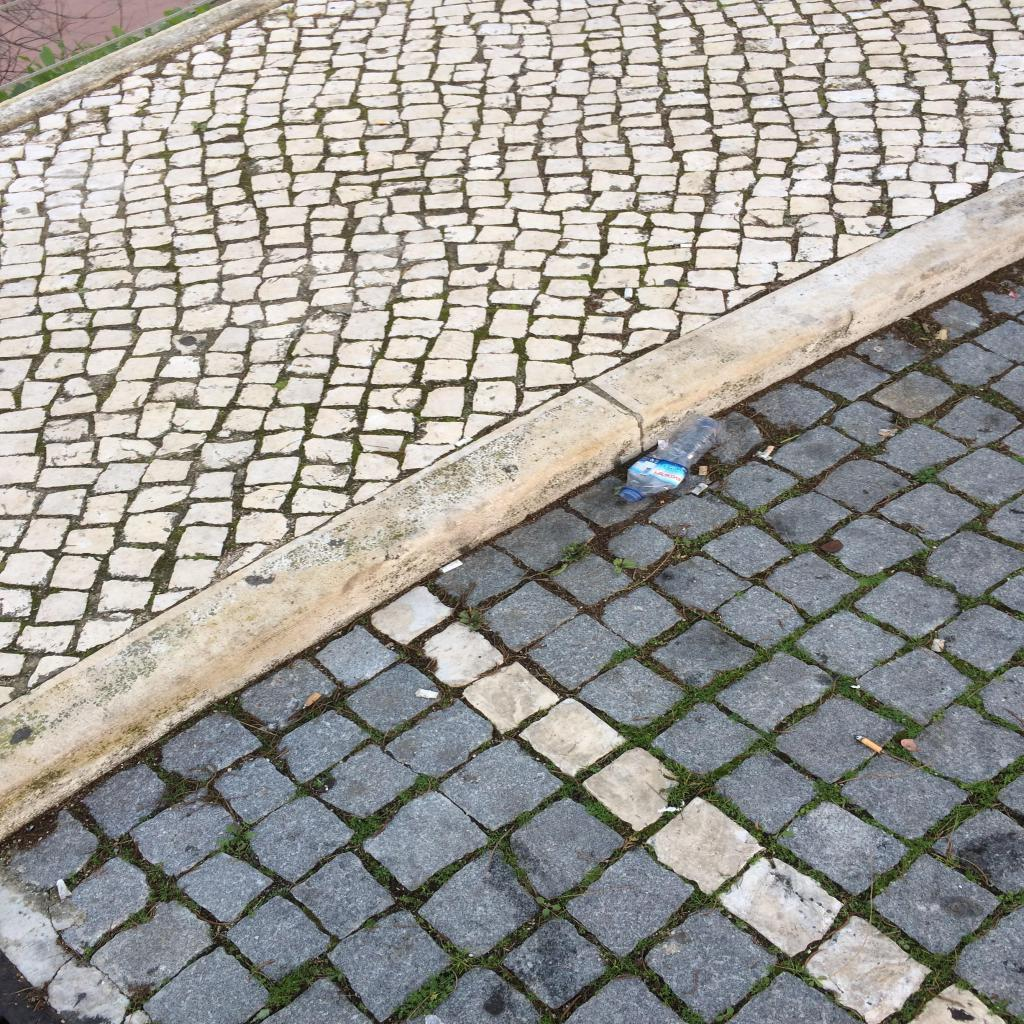Cigarette: (856, 736, 884, 753), (438, 560, 464, 574), (304, 693, 322, 709), (416, 689, 438, 699), (761, 446, 775, 460), (700, 466, 708, 476)
Clear plastic bottle: (618, 414, 724, 502)
